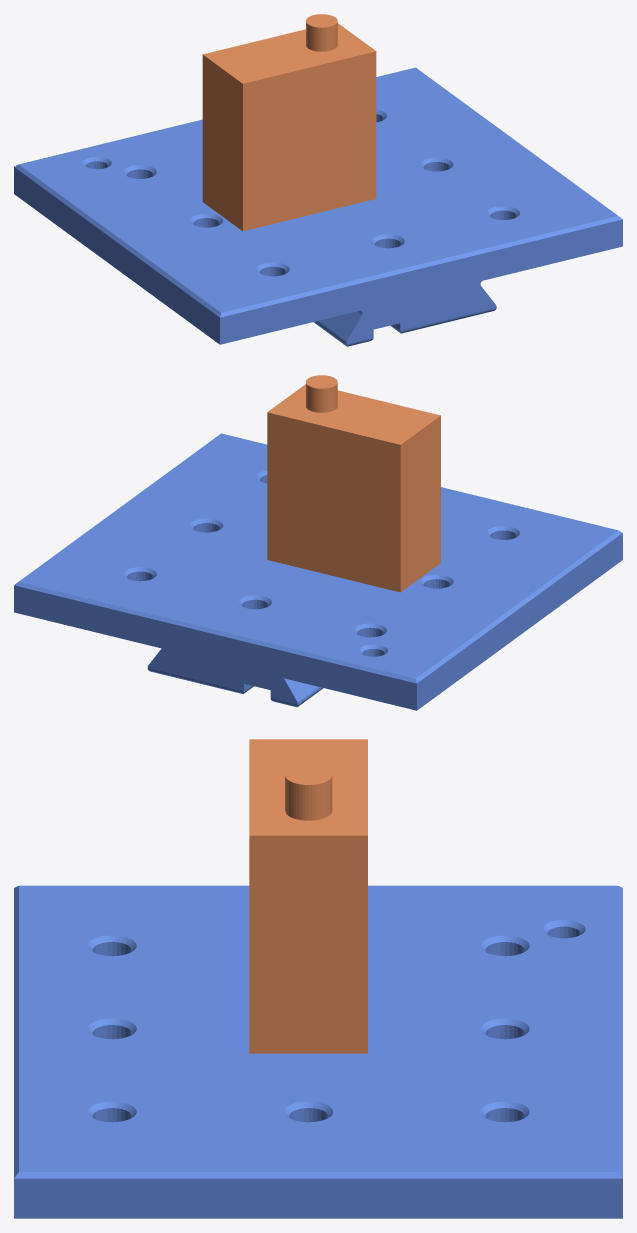
Rendered from qr_adapter_example.glb.
The picture shows the model from 3 angles, top to bottom: view 1: azimuth 30°, elevation 25°; view 2: azimuth 150°, elevation 25°; view 3: azimuth 270°, elevation 25°; orthographic projection. The views are drawn at different scales.
Visible parts, largest first — view 1: qr_adapter_example; view 2: qr_adapter_example; view 3: qr_adapter_example.
Part boxes in pixels (x1,y1,x2,y2): qr_adapter_example: (14, 14, 622, 346); qr_adapter_example: (14, 375, 622, 710); qr_adapter_example: (14, 739, 622, 1218).
Size of the model in its own units: 0.07 by 0.0393 by 0.062.
